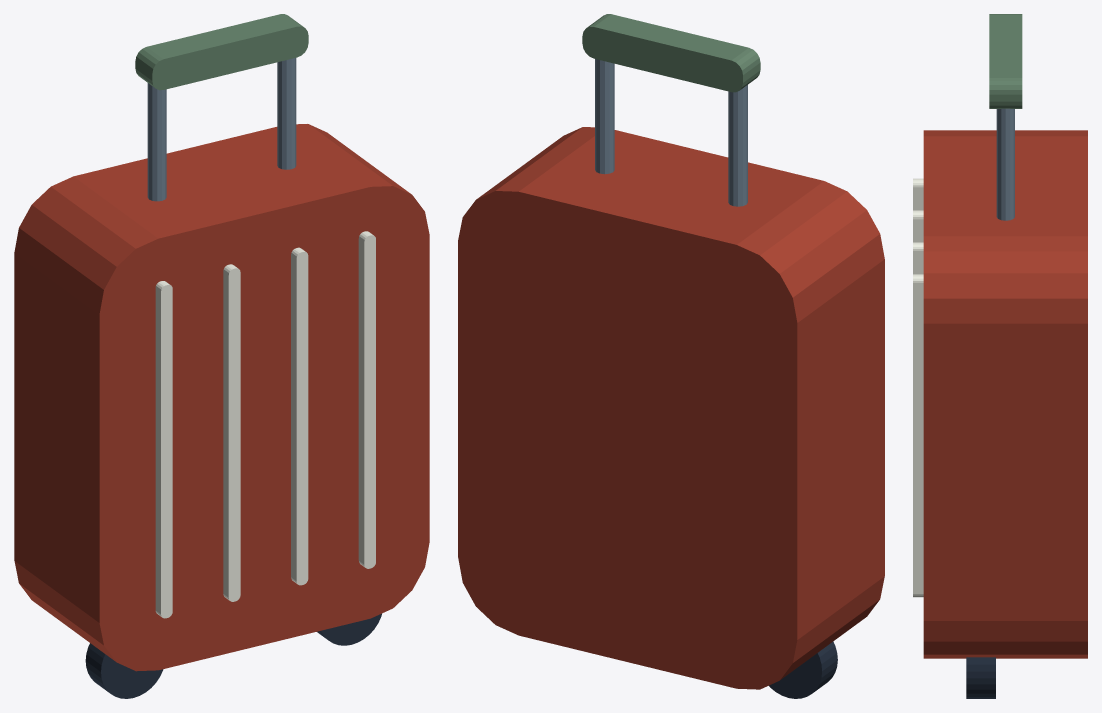
File: suitcase.glb
The picture shows the model from 3 angles, left to right: view 1: azimuth 30°, elevation 25°; view 2: azimuth 150°, elevation 25°; view 3: azimuth 270°, elevation 25°; orthographic projection. The views are drawn at different scales.
Parts seen in each view (by area): view 1: hard shell, handle grip, rib 1, rib 0, rib 2, rib 3, telescopic -0.22, telescopic 0.22, caster -0.37, caster 0.37; view 2: hard shell, handle grip, telescopic -0.22, telescopic 0.22, caster -0.37; view 3: hard shell, rib 3, handle grip, telescopic 0.22, caster 0.37, rib 0, rib 1, rib 2.
Part boxes in pixels (x1,y1,x2,y2): hard shell: (14, 124, 429, 671); handle grip: (135, 14, 308, 90); rib 1: (223, 264, 240, 601); rib 0: (155, 281, 172, 618); rib 2: (291, 247, 308, 585); rib 3: (358, 231, 375, 568); telescopic -0.22: (147, 83, 166, 201); telescopic 0.22: (277, 58, 296, 169); caster -0.37: (85, 643, 163, 698); caster 0.37: (317, 613, 381, 645); hard shell: (458, 127, 884, 689); handle grip: (582, 14, 760, 92); telescopic -0.22: (728, 85, 747, 206); telescopic 0.22: (595, 59, 614, 174); caster -0.37: (769, 641, 837, 698); hard shell: (923, 130, 1087, 658); rib 3: (913, 274, 923, 597); handle grip: (989, 14, 1022, 108); telescopic 0.22: (996, 108, 1014, 220); caster 0.37: (966, 657, 995, 698); rib 0: (913, 178, 923, 210); rib 1: (913, 210, 923, 242); rib 2: (913, 242, 923, 274).
Size of the model in its own units: 1.12 by 2.01 by 0.5325.
